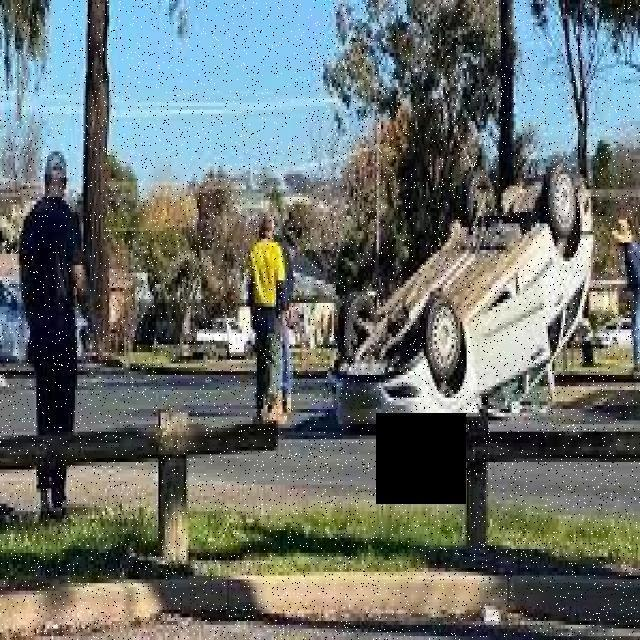single accident: (298, 87, 595, 478)
